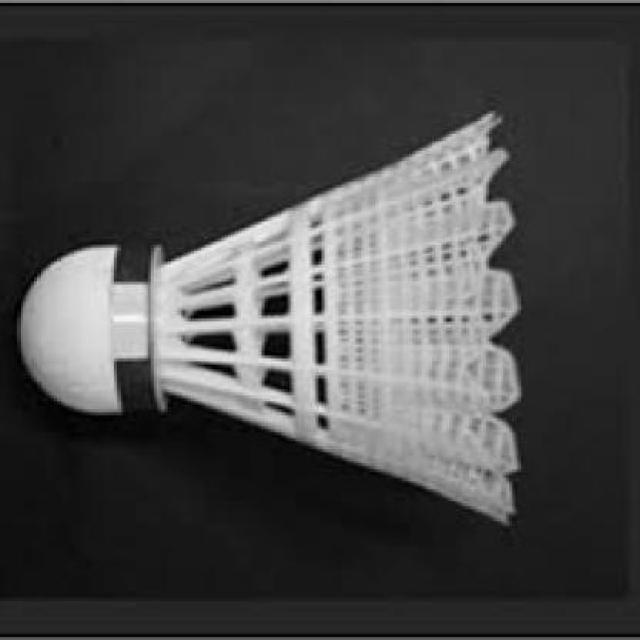Shuttlecock: (19, 105, 523, 528)
